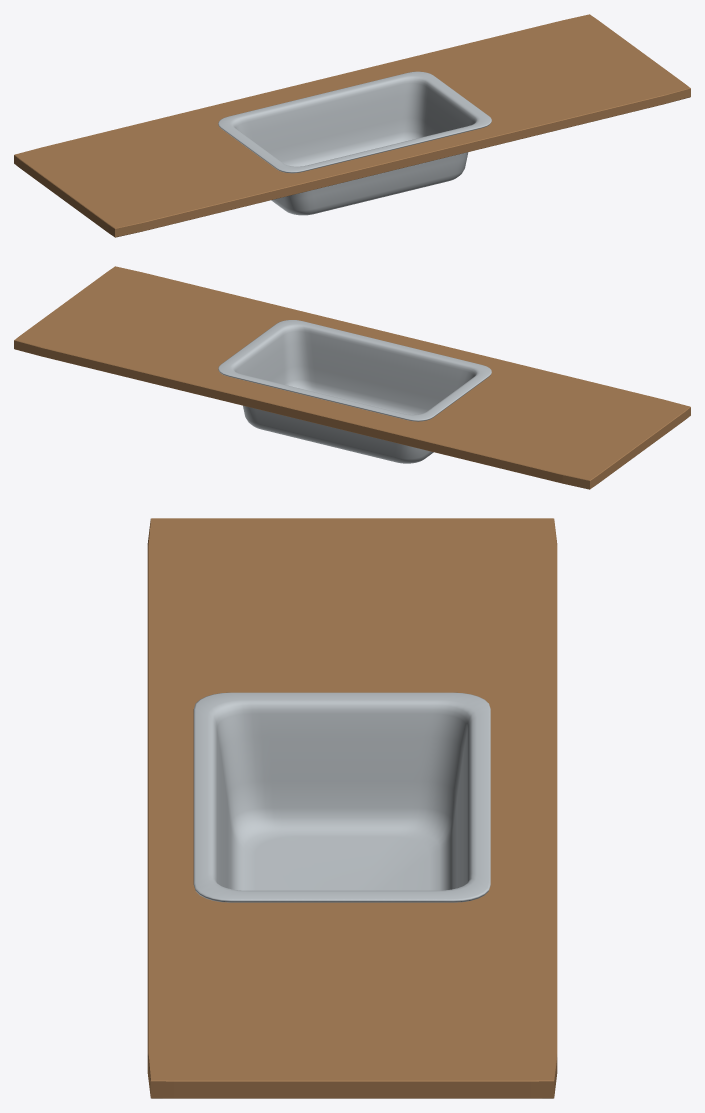
File: sink-countertop.glb
3 views of the same model, one above another, from view 1: azimuth 30°, elevation 25°; view 2: azimuth 150°, elevation 25°; view 3: azimuth 270°, elevation 25° (orthographic). The views are drawn at different scales.
Visible parts, largest first — view 1: Countertop_Cutout, Sink_Basin; view 2: Countertop_Cutout, Sink_Basin; view 3: Countertop_Cutout, Sink_Basin.
Part boxes in pixels (x1,y1,x2,y2): Countertop_Cutout: (14,14,690,237); Sink_Basin: (218,71,491,215); Countertop_Cutout: (14,266,690,489); Sink_Basin: (218,320,491,463); Countertop_Cutout: (147,518,557,1098); Sink_Basin: (193,692,490,902).
Size of the model in its own units: 2.6 by 0.332 by 0.8.
